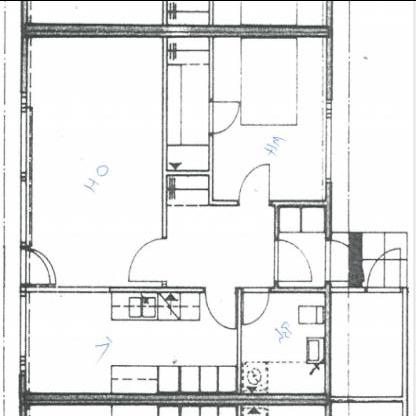door: (126, 233, 169, 286), (322, 235, 366, 286), (271, 236, 314, 285), (202, 283, 241, 336), (363, 244, 405, 290), (237, 159, 273, 211), (209, 94, 243, 142), (242, 281, 272, 329), (22, 244, 56, 286)
window: (18, 88, 33, 247), (15, 288, 31, 378), (323, 90, 335, 184)
